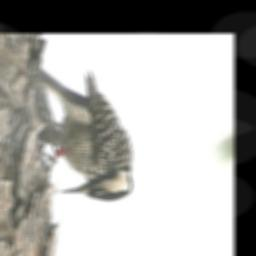Woodpecker: (33, 68, 133, 201)
